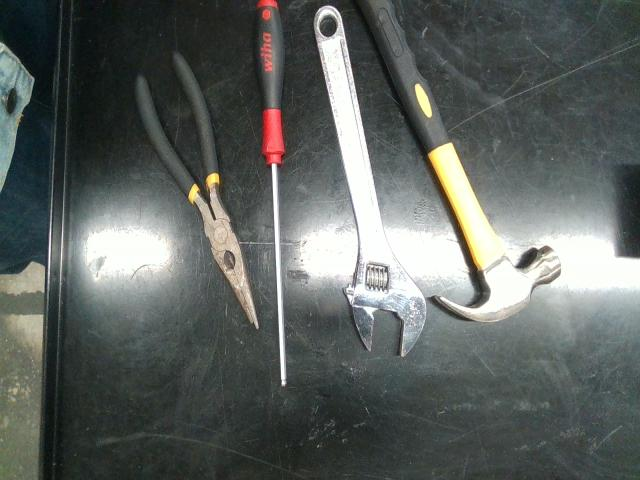Adjustable spanner: (314, 7, 426, 356)
Hammer: (359, 0, 561, 322)
Needle-nose pliers: (135, 53, 259, 328)
Screwdriver: (255, 0, 286, 386)
